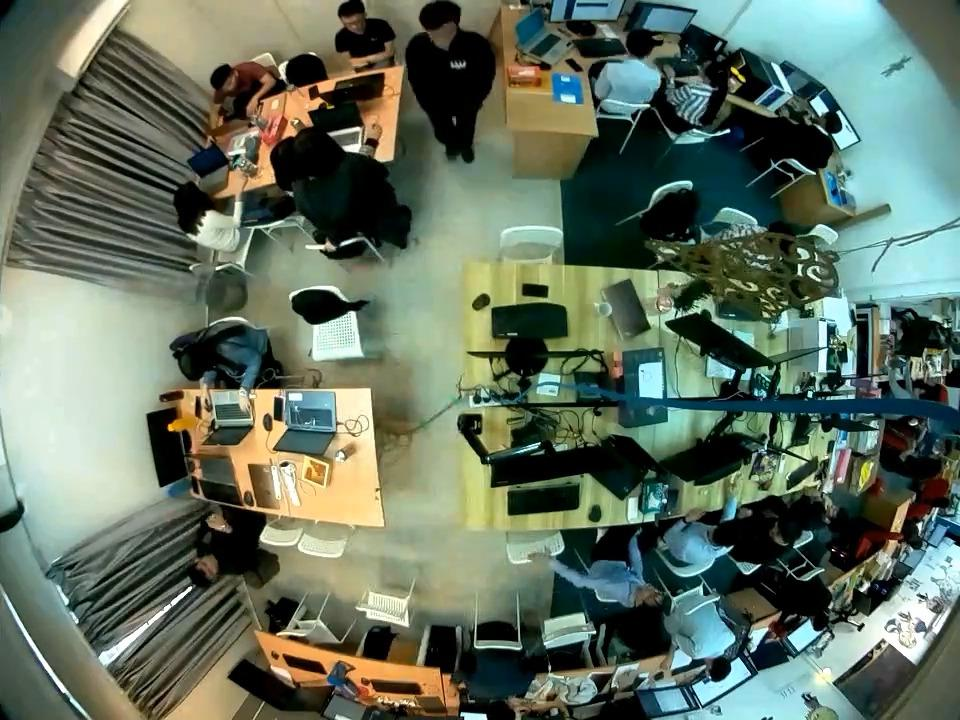name-tag: (447, 55, 471, 72)
